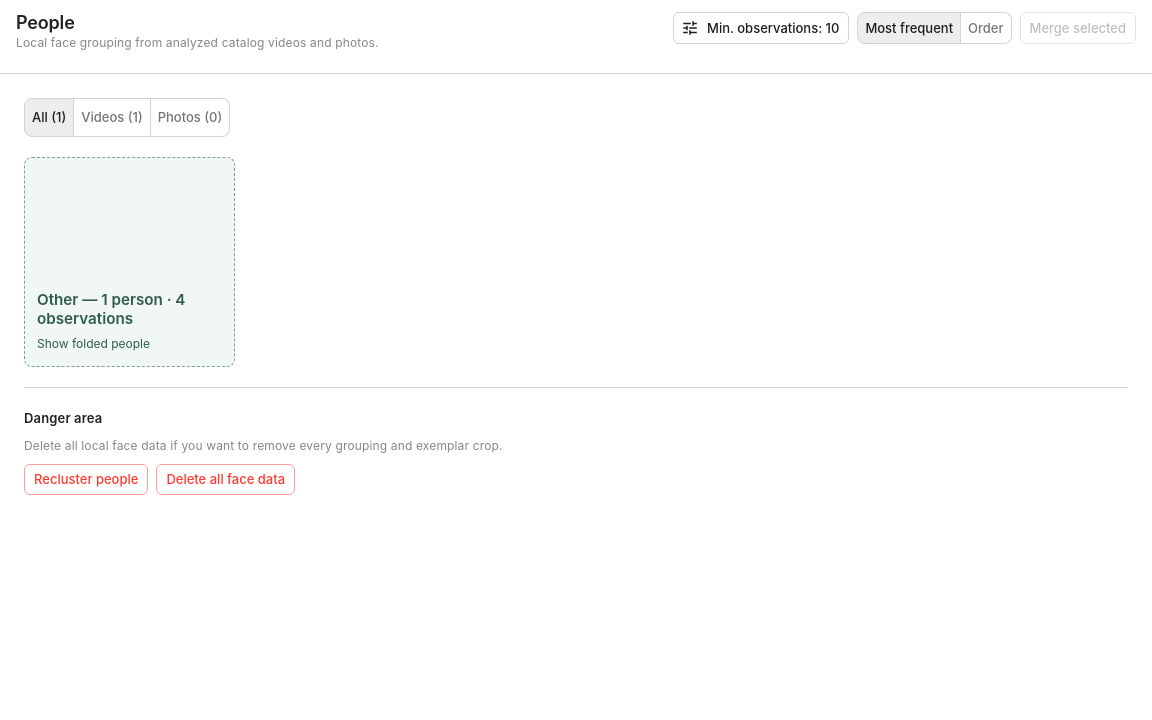
PeopleView › uses the short rebuild confirmation label when the dry run drops no names
Expected: the element with test id "people-grid" is shown, [24,157,235,367]
Click the button with test id "people-recluster" at (86, 479), box [24,464,148,495]
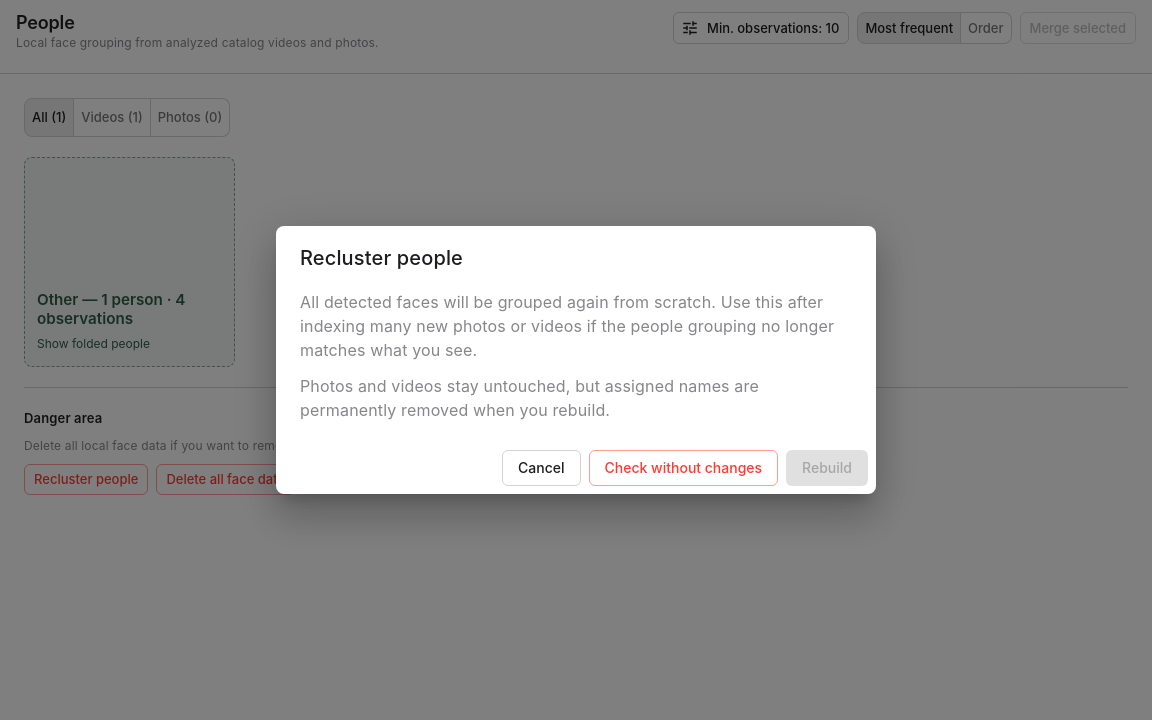
Click the button with test id "people-recluster-dry-run" at (683, 468), box [588,450,778,486]
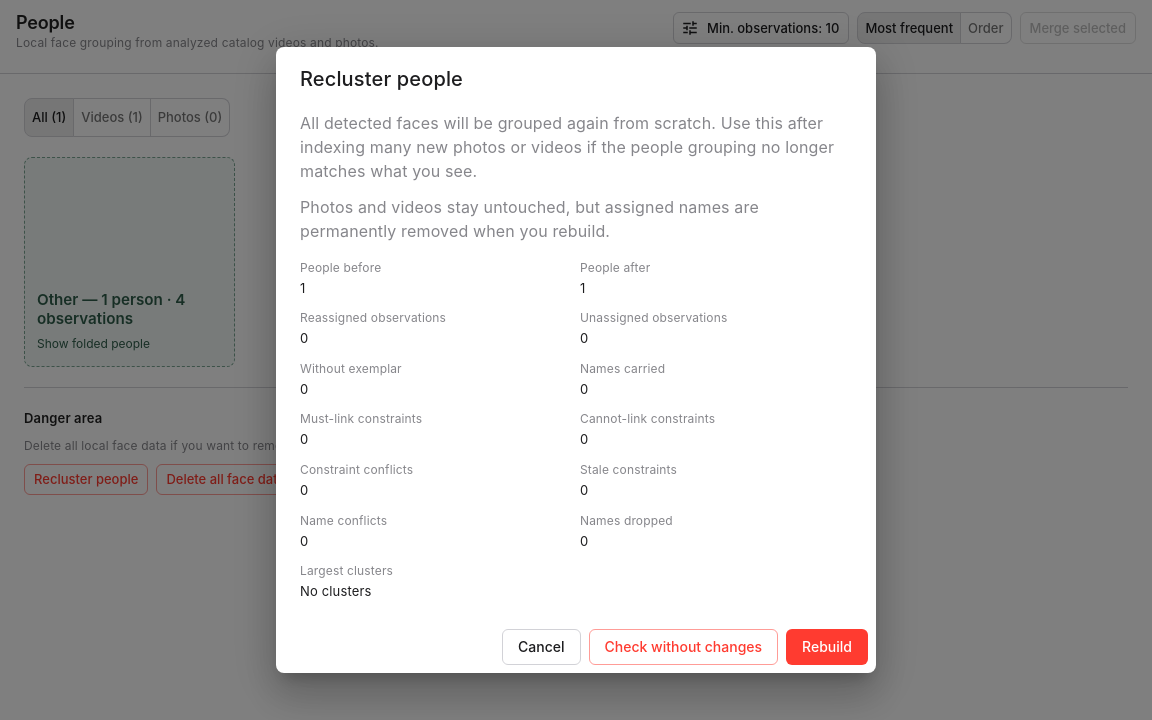
Result: the button with test id "people-recluster-confirm" reads "Rebuild" at [786,629,868,665]
Result: the element with test id "people-recluster-report" is shown at [300,260,727,599]
